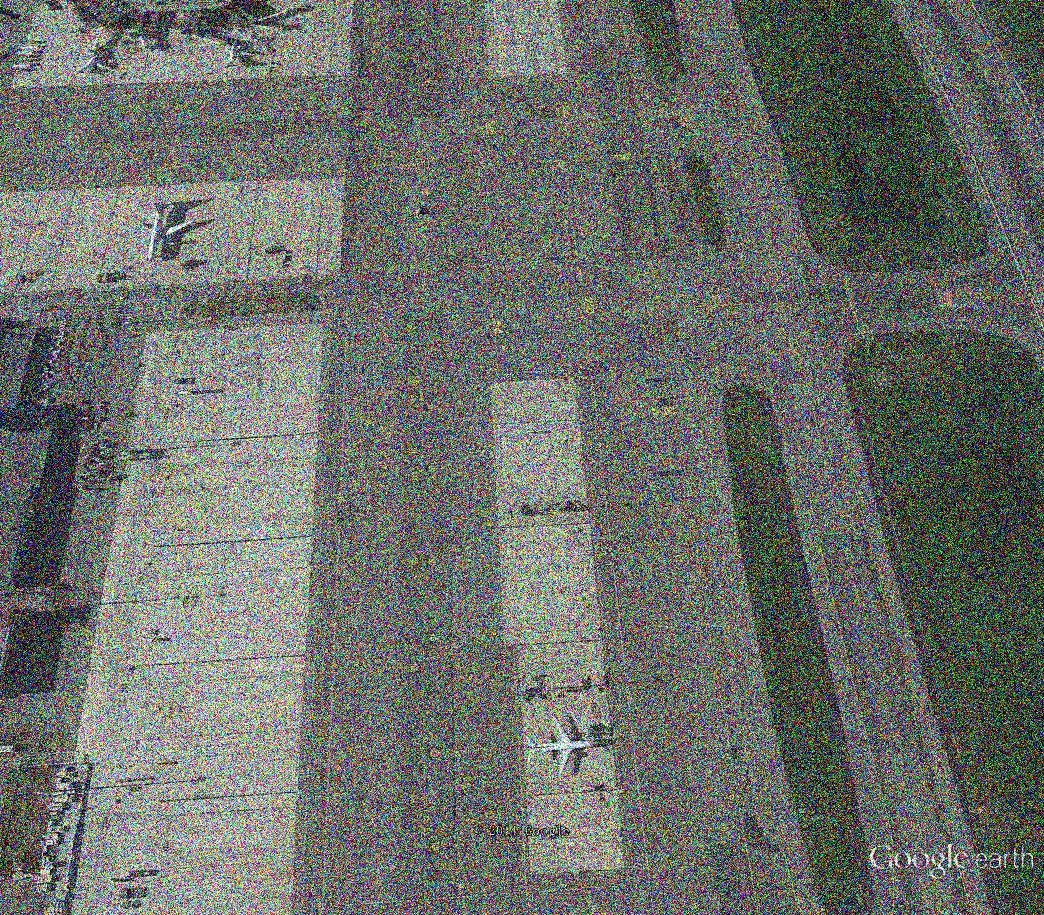aircraft: (521, 714, 606, 781), (121, 200, 201, 263), (70, 49, 112, 81), (218, 41, 257, 70)
